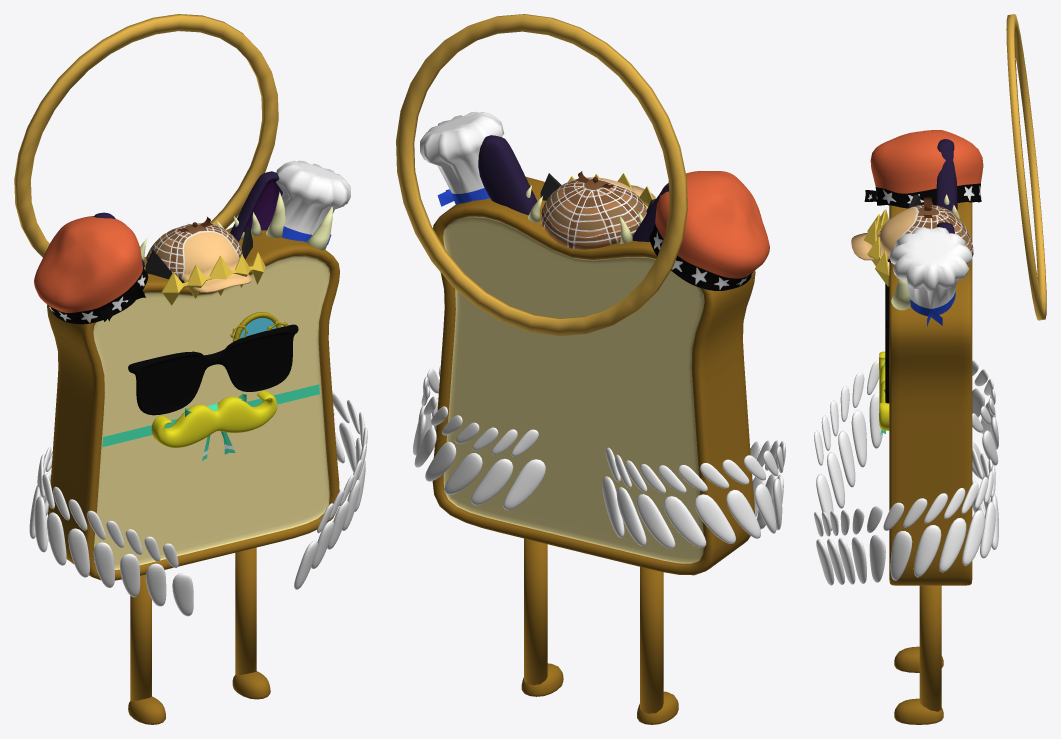
Rendered from bread.fbx.
3 views of the same model, side by side, from view 1: azimuth 30°, elevation 25°; view 2: azimuth 150°, elevation 25°; view 3: azimuth 270°, elevation 25° (orthographic). The views are drawn at different scales.
Parts seen in each view (by area): view 1: Bread, Halo, Circle, WingsBottom, Sunglasses, Legs, WingsTop, ChefHat, Hat, Mustache, Ears, InaTiara (+5 smaller); view 2: Bread, Halo, WingsBottom, Circle, Legs, WingsTop, Hat, ChefHat, Ears, Feet; view 3: Bread, WingsBottom, WingsTop, Circle, ChefHat, Halo, Legs, Hat, Feet, Ears, InaTiara, Mustache (+2 smaller).
Boxes of the visible parts, x1,y1,x2,y2 form: Bread: [47, 227, 339, 580]; Halo: [14, 14, 278, 257]; Circle: [34, 216, 148, 324]; WingsBottom: [29, 422, 365, 616]; Sunglasses: [128, 324, 298, 415]; Legs: [130, 547, 256, 701]; WingsTop: [37, 392, 367, 567]; ChefHat: [276, 160, 350, 244]; Hat: [145, 223, 251, 292]; Mustache: [151, 390, 277, 447]; Ears: [93, 171, 282, 266]; InaTiara: [162, 251, 265, 305]; Bread: [432, 177, 755, 575]; Halo: [396, 14, 687, 335]; WingsBottom: [413, 397, 783, 548]; Circle: [649, 171, 769, 290]; Legs: [524, 538, 663, 713]; WingsTop: [421, 367, 785, 493]; Hat: [540, 177, 656, 249]; ChefHat: [420, 111, 504, 206]; Ears: [478, 135, 668, 241]; Feet: [521, 663, 678, 724]; Bread: [889, 202, 972, 585]; WingsBottom: [816, 388, 998, 585]; WingsTop: [814, 360, 995, 536]; Circle: [870, 130, 983, 208]; ChefHat: [889, 227, 972, 326]; Halo: [1006, 14, 1046, 320]; Legs: [919, 585, 941, 711]; Hat: [851, 204, 973, 260]; Feet: [894, 646, 943, 724]; Ears: [936, 139, 957, 233]; InaTiara: [864, 209, 889, 286]; Mustache: [879, 351, 889, 430].
Bounding box in the file's own units: 244 × 477 × 151.
